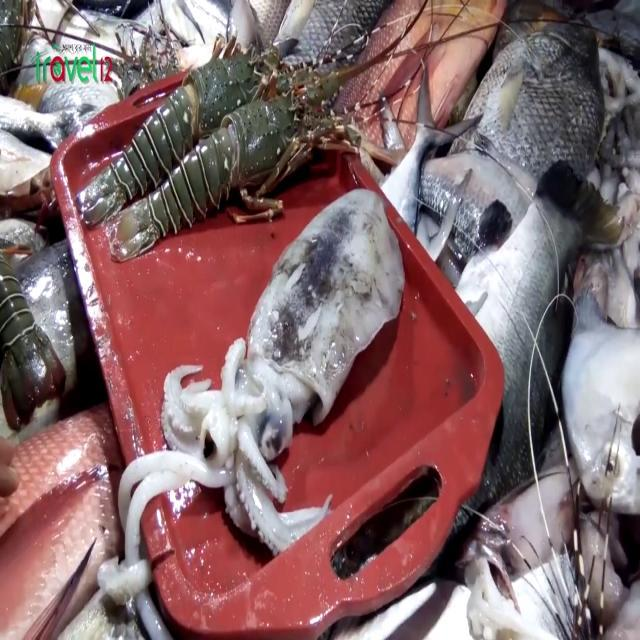squid: (120, 190, 403, 558)
